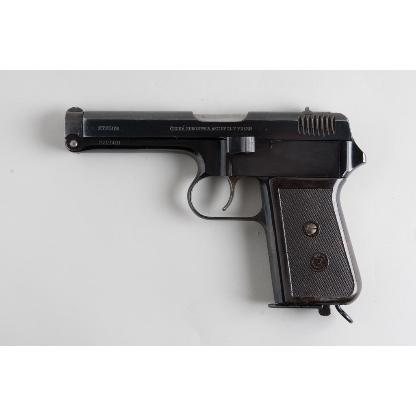gun: (65, 104, 368, 322)
